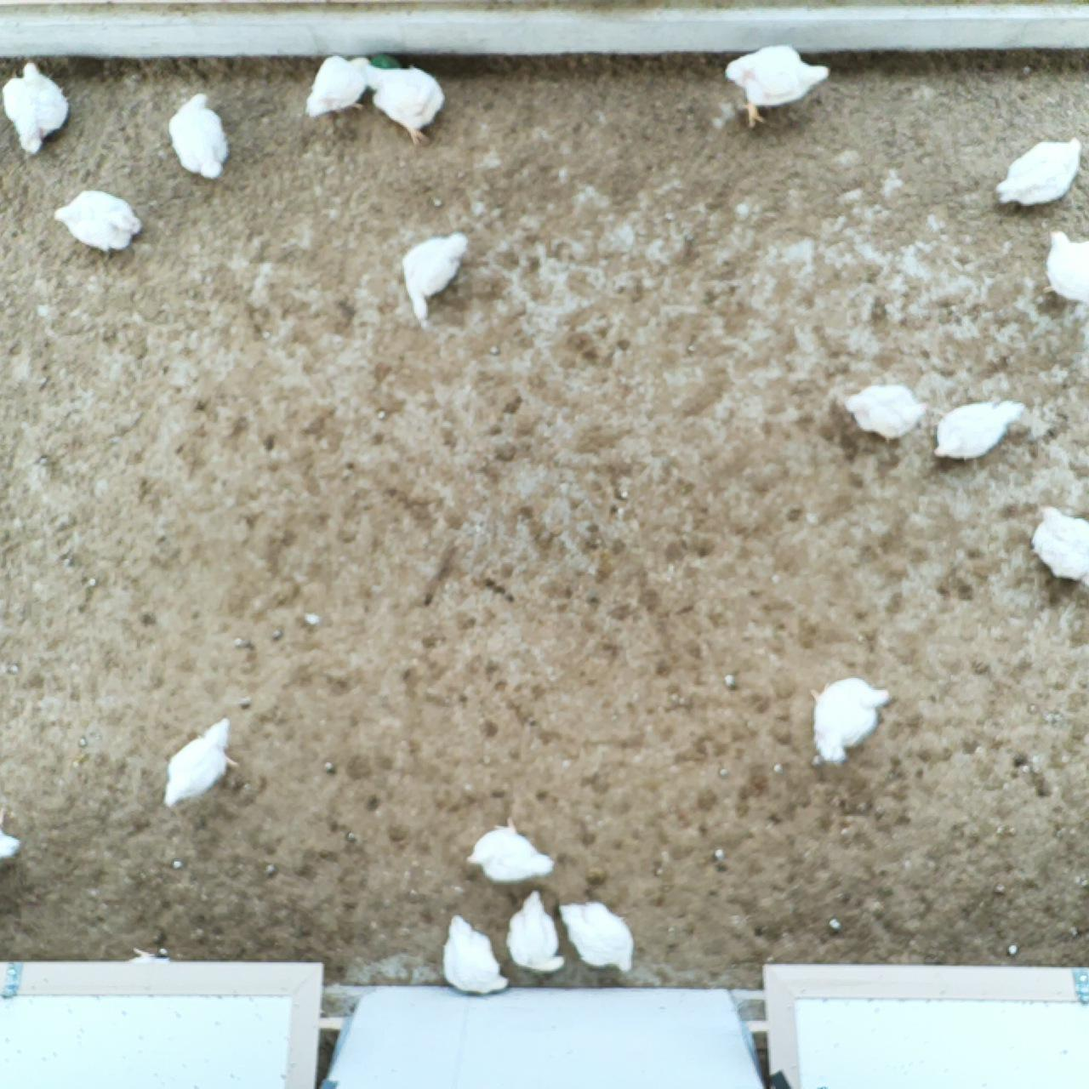chicken: (719, 38, 833, 132), (155, 711, 246, 812), (807, 678, 894, 770), (462, 810, 559, 890), (395, 227, 470, 329), (0, 57, 74, 158), (993, 131, 1084, 213), (365, 61, 449, 148), (930, 392, 1031, 464), (52, 185, 148, 256), (555, 895, 638, 977), (434, 913, 513, 999), (164, 88, 233, 186), (843, 380, 933, 450), (504, 887, 568, 979), (299, 52, 376, 125), (1028, 500, 1089, 589), (1036, 227, 1089, 311)
